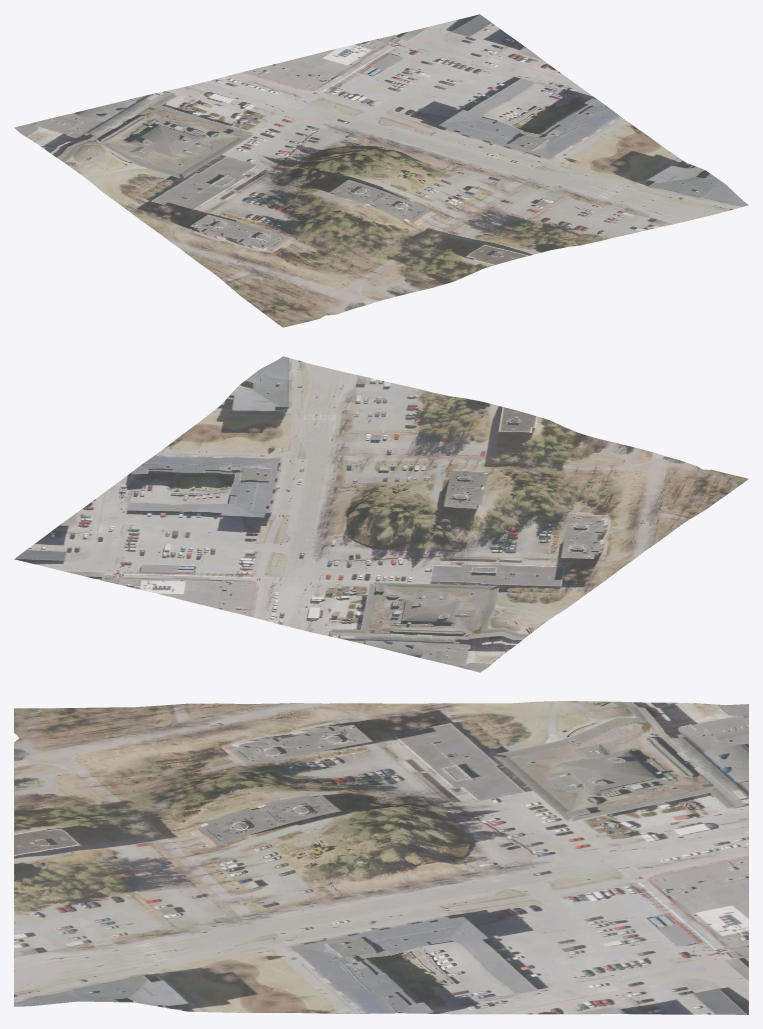
The model's file is CM_Terrain_24491892_6815493.fbx.
The picture shows the model from 3 angles, top to bottom: view 1: azimuth 30°, elevation 25°; view 2: azimuth 150°, elevation 25°; view 3: azimuth 270°, elevation 25°; orthographic projection. The views are drawn at different scales.
Visible parts, largest first — view 1: CM_Terrain_24491892_6815493_LOD0; view 2: CM_Terrain_24491892_6815493_LOD0; view 3: CM_Terrain_24491892_6815493_LOD0.
Part boxes in pixels (<box>): CM_Terrain_24491892_6815493_LOD0: <box>14,14,748,327</box>; CM_Terrain_24491892_6815493_LOD0: <box>14,356,748,672</box>; CM_Terrain_24491892_6815493_LOD0: <box>14,701,748,1014</box>.
Size of what is drawn, in the model's own units: 205 by 7.66 by 205.
